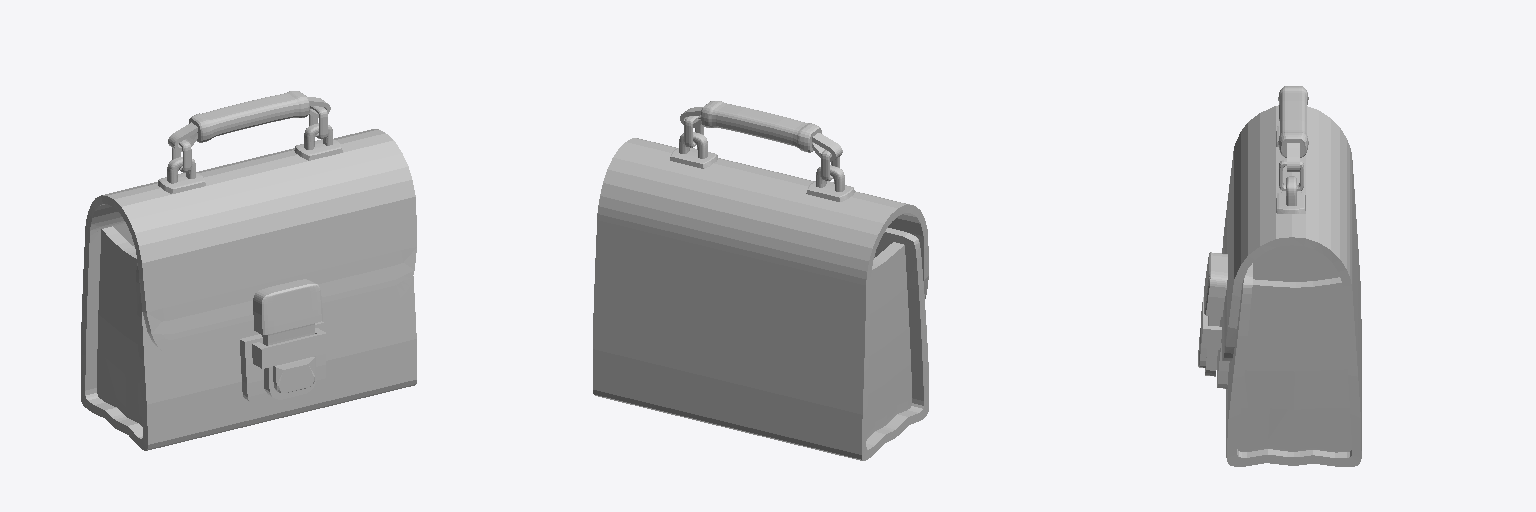
File: purse.obj
The picture shows the model from 3 angles: view 1: azimuth 30°, elevation 25°; view 2: azimuth 150°, elevation 25°; view 3: azimuth 270°, elevation 25°; orthographic projection.
Visible parts, largest first — view 1: wallet_bag_01; view 2: wallet_bag_01; view 3: wallet_bag_01.
Part boxes in pixels (left/top/right/bottom): wallet_bag_01: left=81, top=91, right=416, bottom=450; wallet_bag_01: left=593, top=101, right=928, bottom=460; wallet_bag_01: left=1198, top=86, right=1361, bottom=466.
Size of the model in its own units: 0.8936 by 0.9082 by 0.4619.